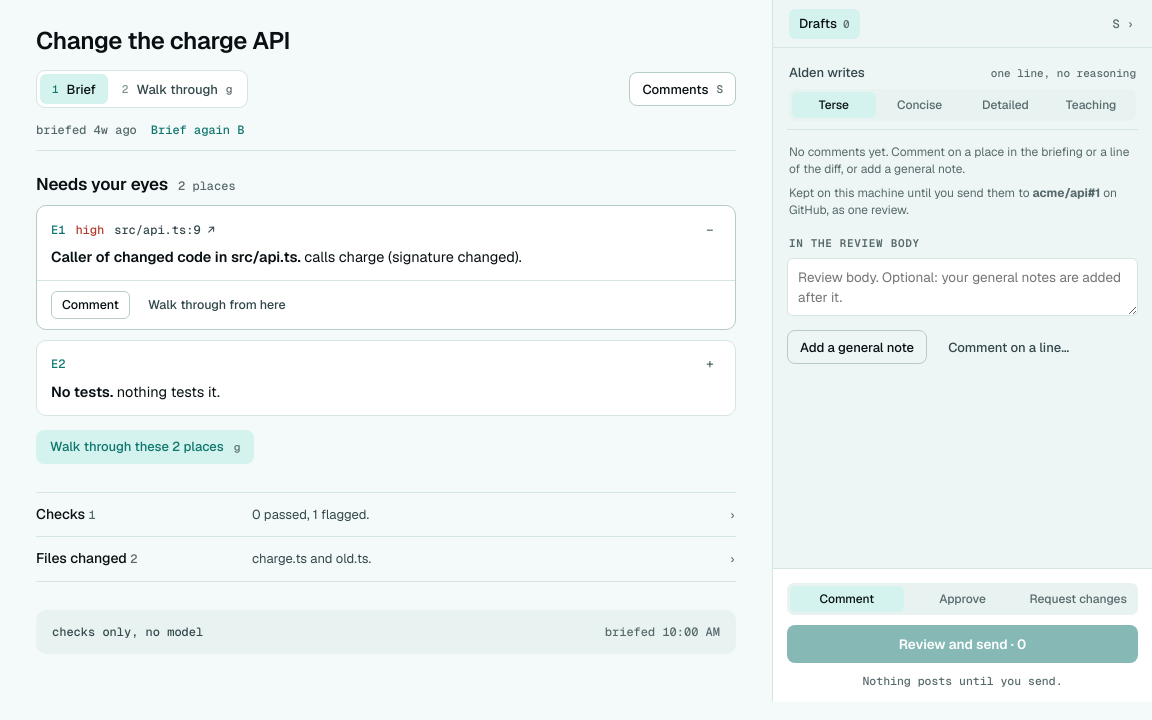
Test: Alden writes › isn't shown where the API has no tone (404), and puts the tone back when saving fails
What coordinates should you click on to do the following:
click the button "Detailed"
I would click on:
 (1005, 105)
Its box is [964,92,1047,118].
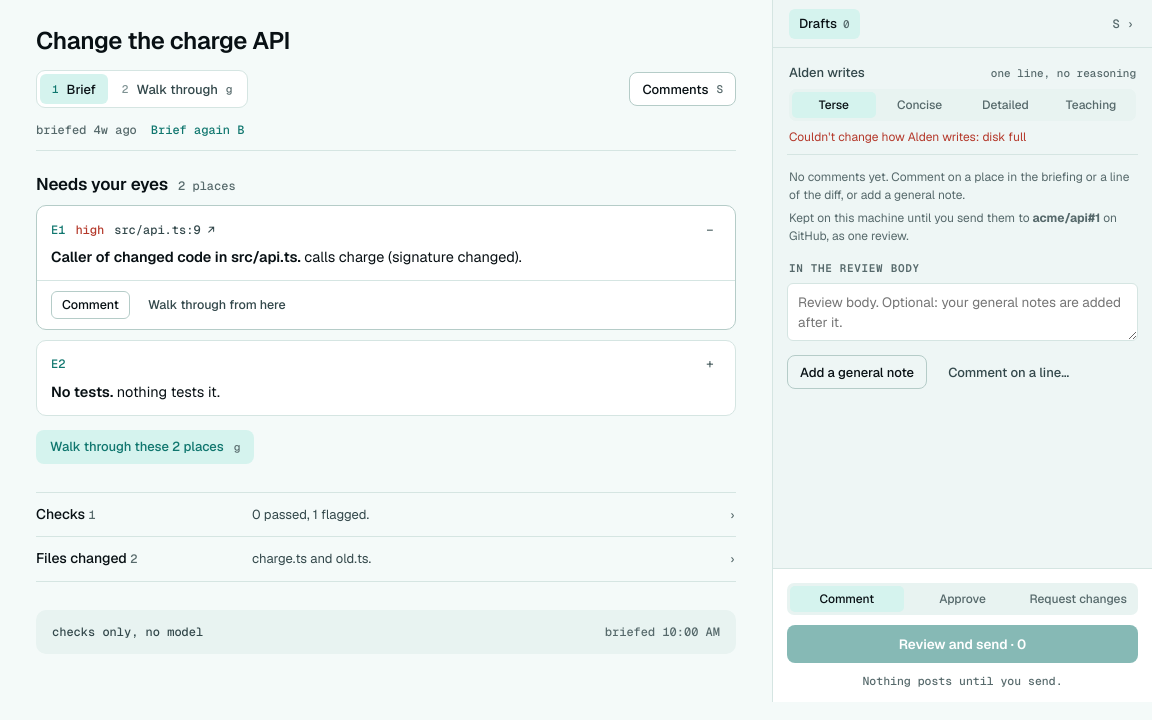
Now the message "Couldn't change how Alden writes: disk full" is shown, box [789,129,1026,145]
